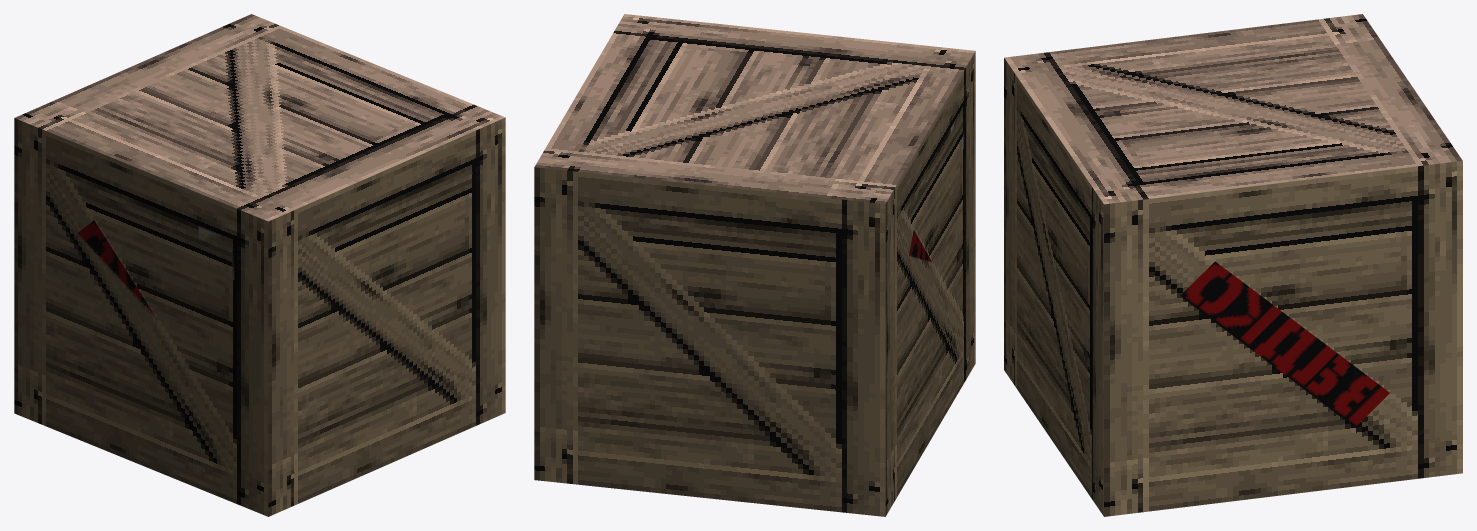
File: train_wooden_crate_9.glb
The picture shows the model from 3 angles, left to right: view 1: azimuth 30°, elevation 25°; view 2: azimuth 150°, elevation 25°; view 3: azimuth 270°, elevation 25°; orthographic projection. The views are drawn at different scales.
Visible parts, largest first — view 1: Object; view 2: Object; view 3: Object.
Boxes of the visible parts, <box> form: Object: <box>14,14,505,516</box>; Object: <box>534,14,975,516</box>; Object: <box>1004,14,1462,516</box>.
Size of the model in its own units: 1.67 by 1.28 by 1.7.
7 materials, 7 textured.
